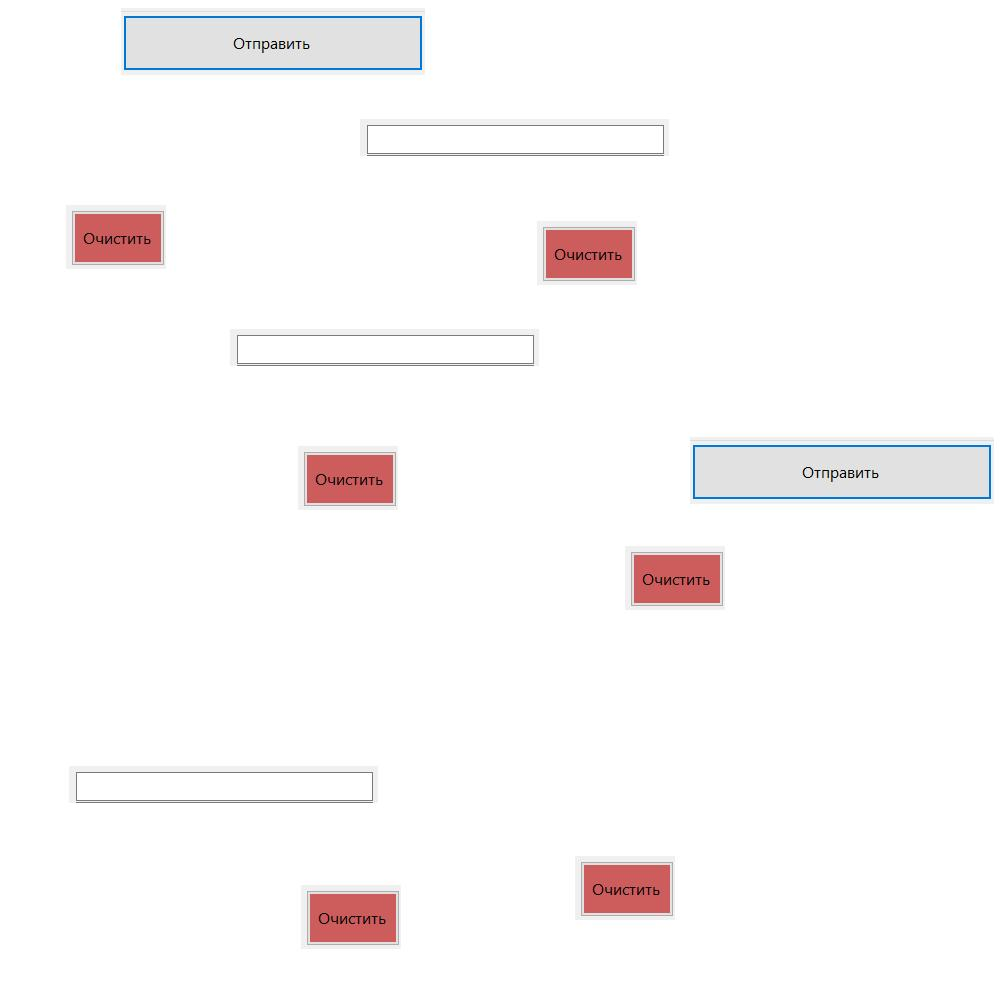Button: (690, 437, 994, 504), (121, 8, 425, 75), (298, 446, 398, 510), (301, 885, 401, 949), (575, 856, 675, 920), (625, 546, 725, 610), (537, 221, 637, 285), (66, 205, 166, 269)
EditText-: (69, 766, 378, 803), (360, 119, 669, 156), (230, 329, 539, 366)
